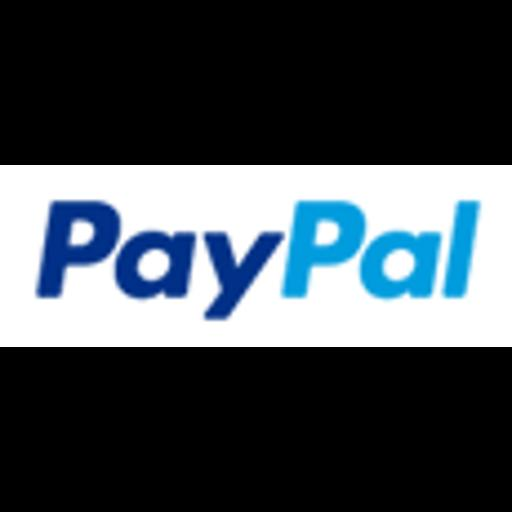PayPal: (0, 165, 512, 347)
